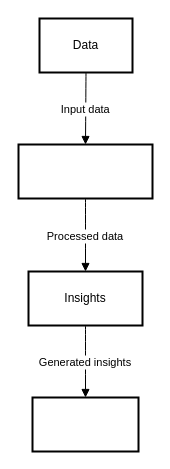
Image size: 170x469. Some labels were removed from this diagram. Each missing label, with the box of its shape:
Action: (31, 396, 139, 452)
Processing: (17, 143, 153, 199)
